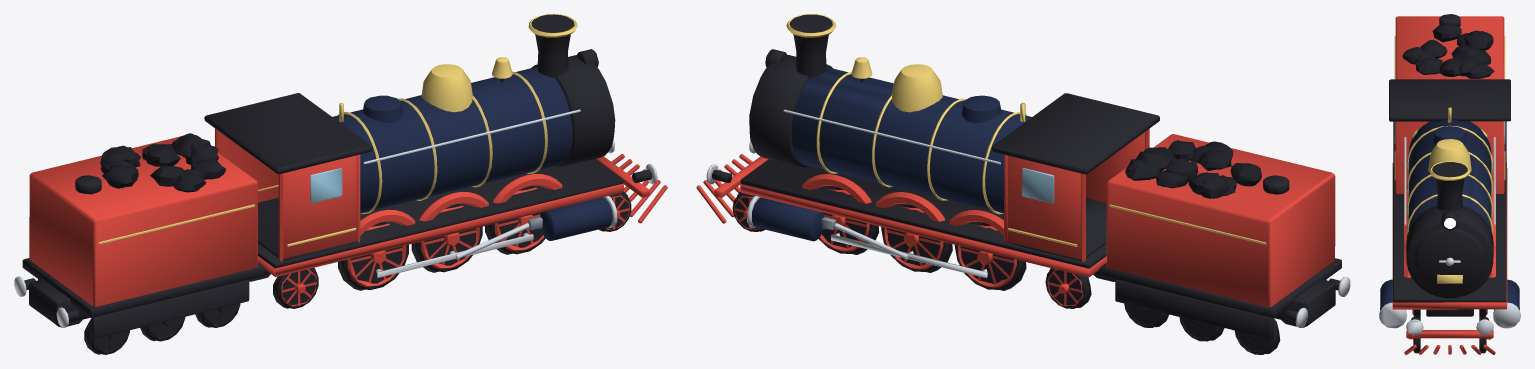
File: locomotive.glb
3 views of the same model, side by side, from view 1: azimuth 30°, elevation 25°; view 2: azimuth 150°, elevation 25°; view 3: azimuth 270°, elevation 25° (orthographic). The views are drawn at different scales.
Parts seen in each view (by area): view 1: locomotive.002, tw-10.005 (×3), drv-10.002, drv-11.002, trail-1.002, drv-12.002, pony-1.002; view 2: locomotive.002, drv10.002, drv11.002, tw11.002 (×2), trail1.002, drv12.002, tw10.005, pony1.002; view 3: locomotive.002, pony-1.002, pony1.002.
Boxes of the visible parts, <box> form: locomotive.002: <box>14,14,667,338</box>; tw-10.005 (×3): <box>84,303,240,354</box>; drv-10.002: <box>338,221,408,290</box>; drv-11.002: <box>411,203,482,272</box>; trail-1.002: <box>273,267,318,308</box>; drv-12.002: <box>485,185,545,254</box>; pony-1.002: <box>599,192,631,231</box>; locomotive.002: <box>696,14,1350,338</box>; drv10.002: <box>954,221,1026,290</box>; drv11.002: <box>881,204,952,272</box>; tw11.002 (×2): <box>1179,317,1280,354</box>; trail1.002: <box>1045,268,1091,308</box>; drv12.002: <box>818,186,879,254</box>; tw10.005: <box>1124,303,1169,327</box>; pony1.002: <box>732,192,765,231</box>; locomotive.002: <box>1379,14,1520,354</box>; pony-1.002: <box>1408,317,1420,353</box>; pony1.002: <box>1479,317,1491,353</box>.
Bounding box in the file's own units: 13.18 × 4.2 × 3.24.
Materials: 1 (1 with a texture image).
